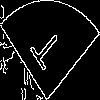T: (25, 25, 64, 79)
